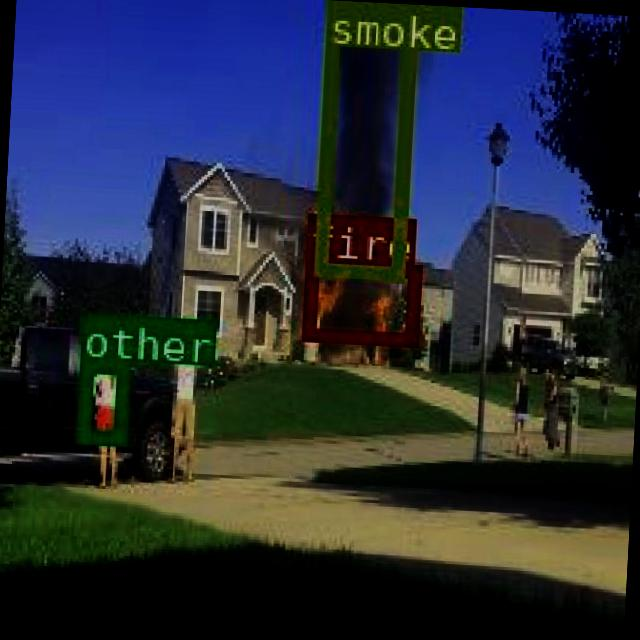fire: (301, 257, 418, 345)
smoke: (311, 0, 414, 275)
